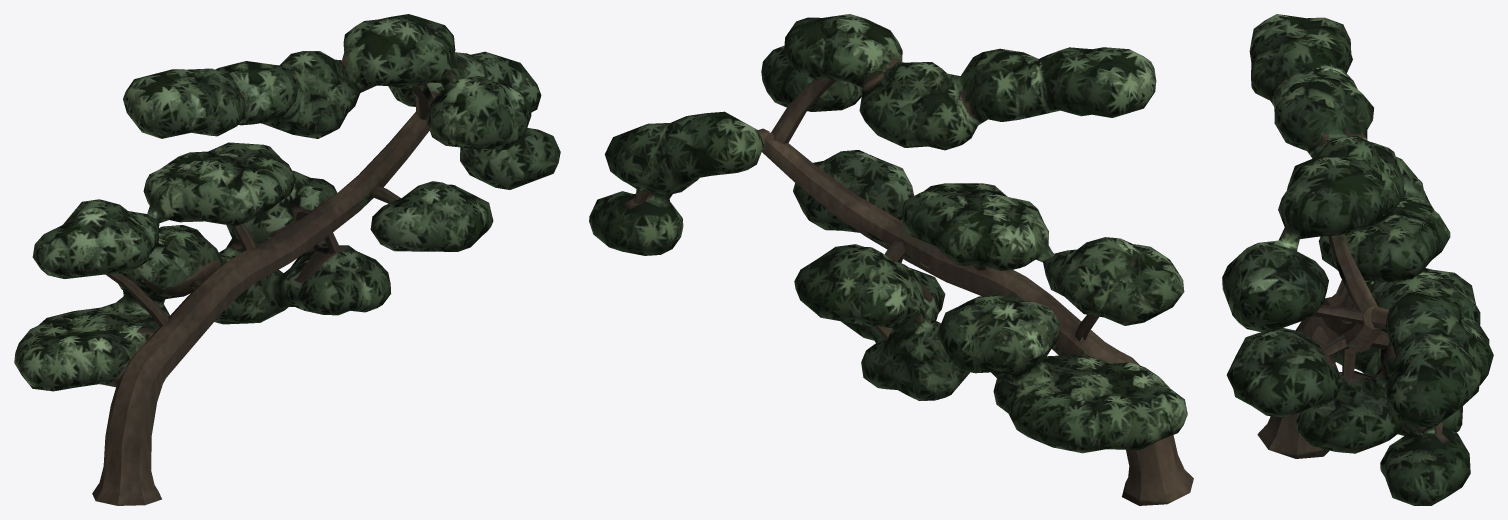
Rendered from pine_b.glb.
3 renders of one model, left to right at view 1: azimuth 30°, elevation 25°; view 2: azimuth 150°, elevation 25°; view 3: azimuth 270°, elevation 25°, orthographic. The views are drawn at different scales.
Visible parts, largest first — view 1: pine_b_lod0; view 2: pine_b_lod0; view 3: pine_b_lod0.
Boxes of the visible parts, x1,y1,x2,y2 form: pine_b_lod0: [14, 14, 560, 505]; pine_b_lod0: [589, 14, 1193, 505]; pine_b_lod0: [1222, 14, 1493, 505].
Size of the model in its own units: 4.29 by 3.07 by 1.69.
1 material, 1 textured.
